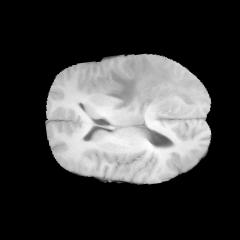glioma: (105, 55, 202, 111)
